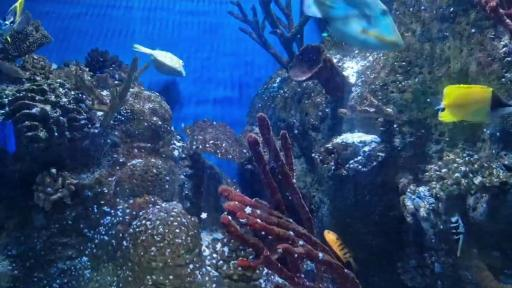Fish: (436, 84, 512, 123), (323, 230, 357, 268), (2, 0, 26, 31)
